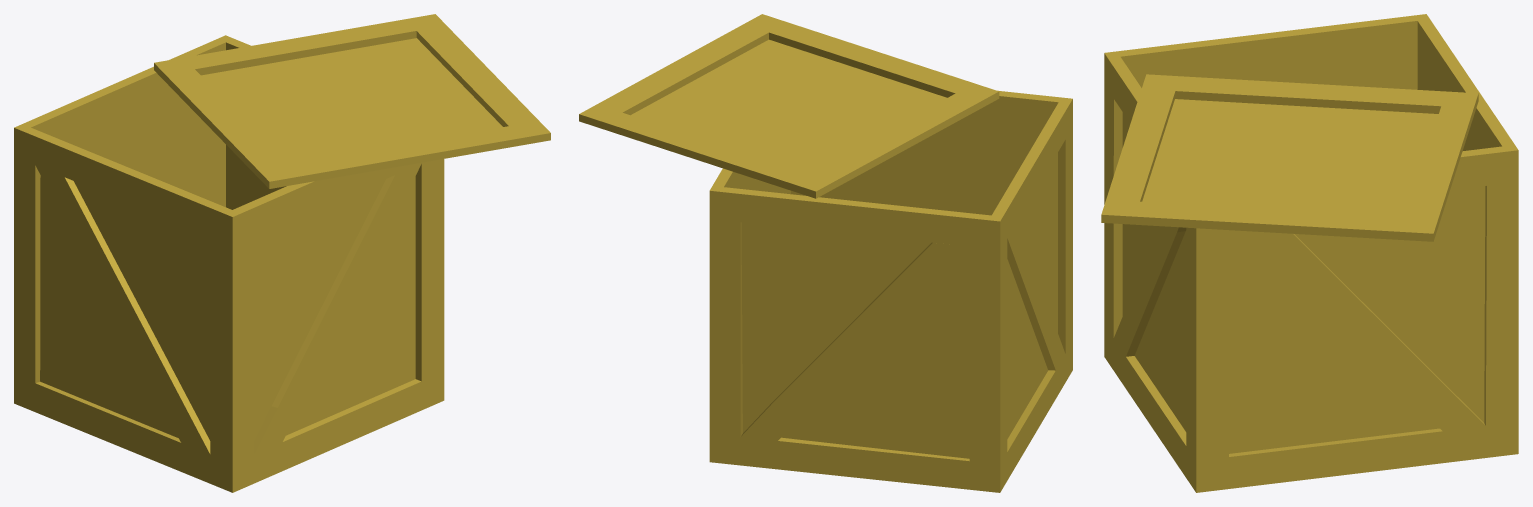
Rendered from Wood Crate Open 1.fbx.
3 views of the same model, side by side, from view 1: azimuth 30°, elevation 25°; view 2: azimuth 150°, elevation 25°; view 3: azimuth 270°, elevation 25° (orthographic). The views are drawn at different scales.
Parts seen in each view (by area): view 1: Wooden Crate Open; view 2: Wooden Crate Open; view 3: Wooden Crate Open.
Boxes of the visible parts, box(x1,y1,x2,y2) form: Wooden Crate Open: box(14, 14, 550, 492); Wooden Crate Open: box(579, 14, 1072, 492); Wooden Crate Open: box(1101, 14, 1518, 492).
Bounding box in the file's own units: 163 × 104 × 126.
